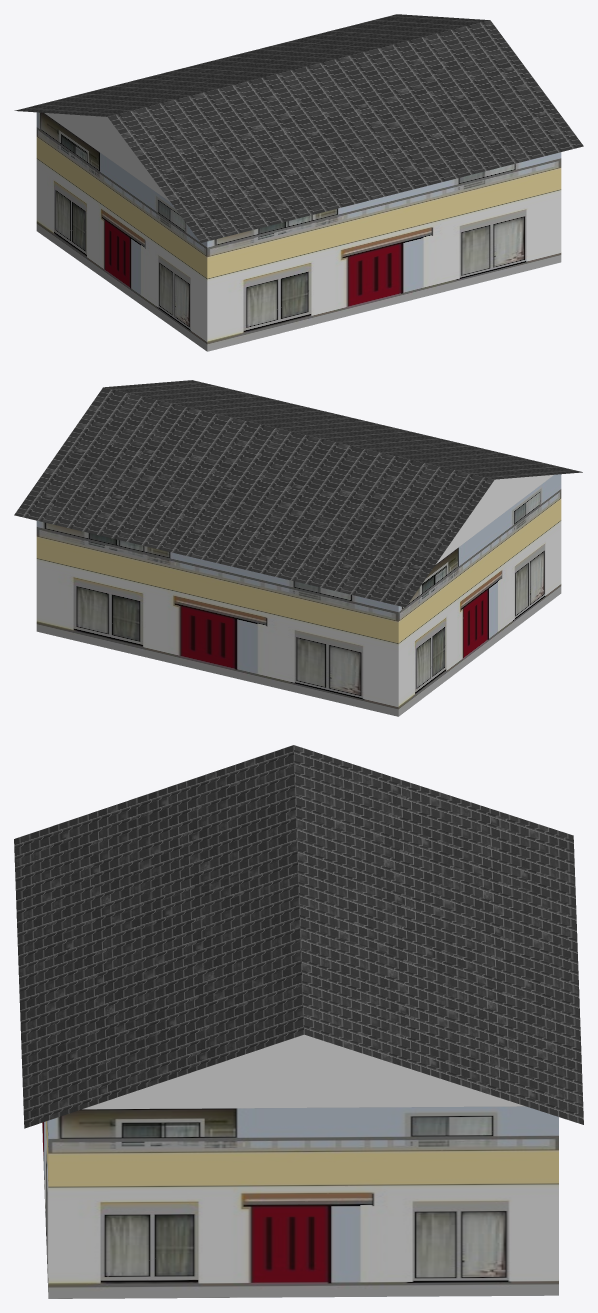
3 views of the same model, one above another, from view 1: azimuth 30°, elevation 25°; view 2: azimuth 150°, elevation 25°; view 3: azimuth 270°, elevation 25° (orthographic). The views are drawn at different scales.
Parts seen in each view (by area): view 1: CityEngineMaterial_16_m, CityEngineMaterial_15_m, CityEngineMaterial_3_m; view 2: CityEngineMaterial_16_m, CityEngineMaterial_15_m, CityEngineMaterial_3_m; view 3: CityEngineMaterial_16_m, CityEngineMaterial_15_m, CityEngineMaterial_3_m.
Part boxes in pixels (x1=…): CityEngineMaterial_16_m: x1=14, y1=14, x2=583, y2=242; CityEngineMaterial_15_m: x1=36, y1=112, x2=561, y2=351; CityEngineMaterial_3_m: x1=44, y1=113, x2=170, y2=202; CityEngineMaterial_16_m: x1=14, y1=380, x2=582, y2=607; CityEngineMaterial_15_m: x1=36, y1=474, x2=561, y2=716; CityEngineMaterial_3_m: x1=435, y1=475, x2=553, y2=564; CityEngineMaterial_16_m: x1=14, y1=745, x2=583, y2=1128; CityEngineMaterial_15_m: x1=42, y1=1106, x2=558, y2=1298; CityEngineMaterial_3_m: x1=82, y1=1034, x2=524, y2=1109.
Size of the model in its own units: 26.63 by 11.59 by 21.88.
